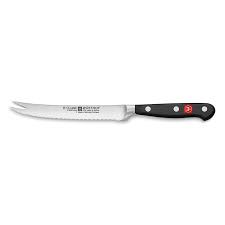kuchillu: (6, 95, 216, 128)
